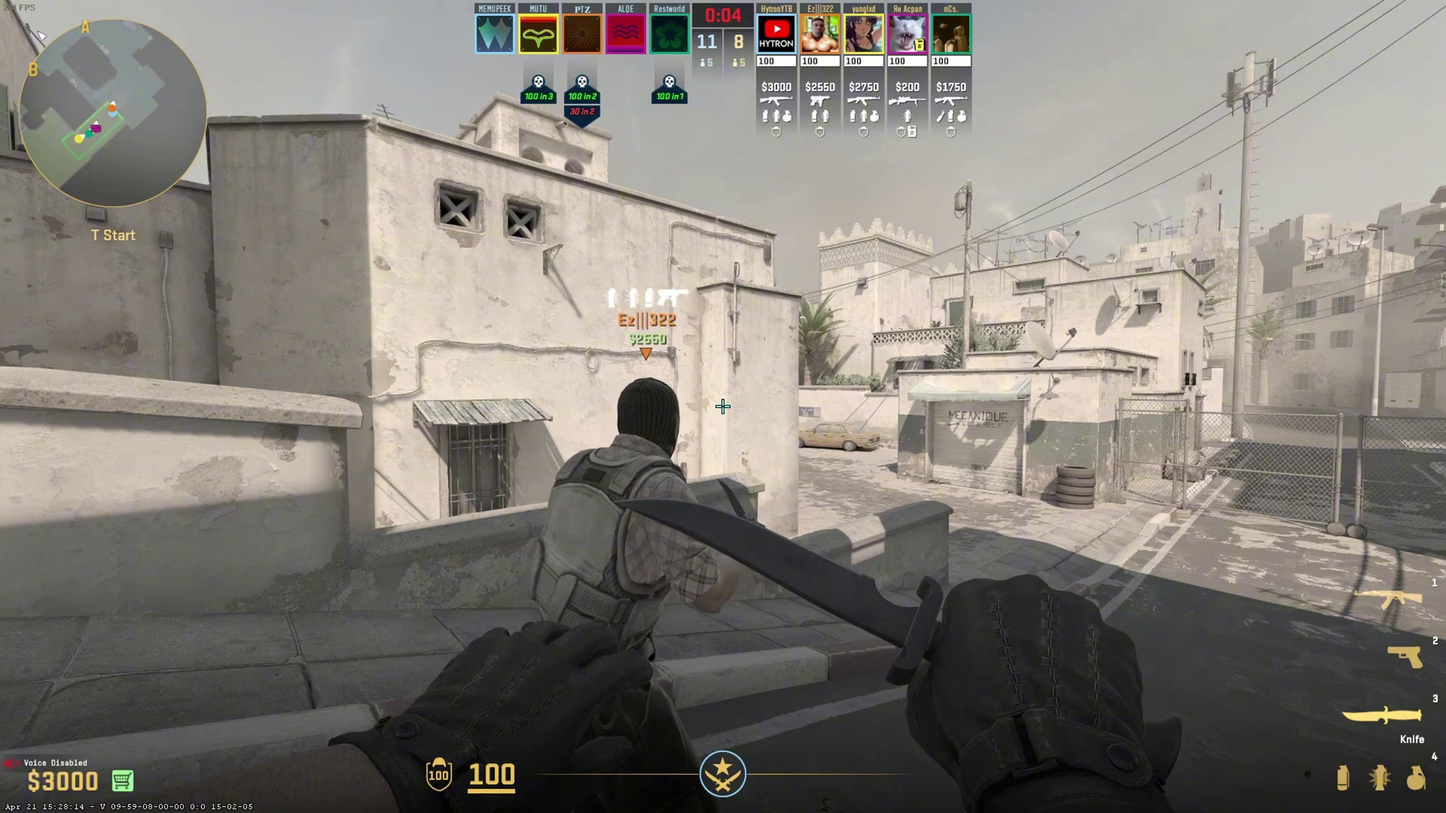Terrorist: (544, 374, 702, 671)
